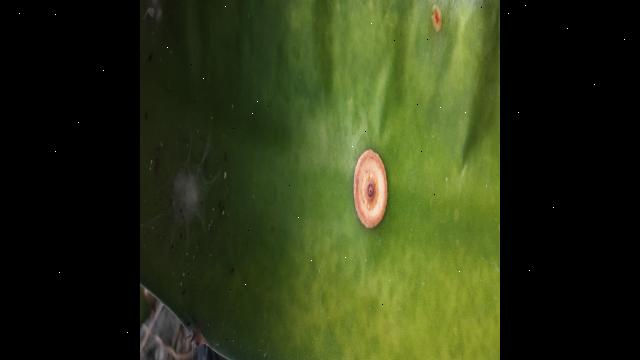stemcanker: (346, 144, 392, 234), (428, 1, 446, 36)
